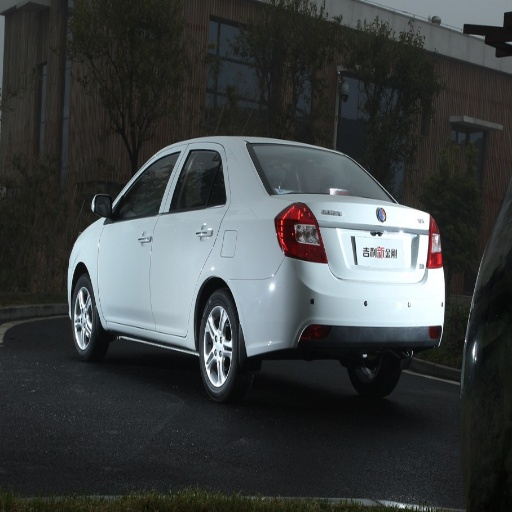back_bumper: (235, 255, 445, 355)
back_glass: (247, 143, 383, 195)
back_left_door: (151, 145, 230, 332)
